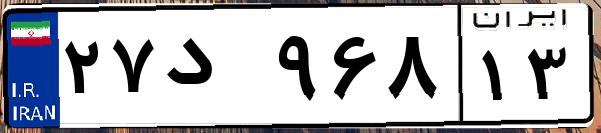1: (475, 38, 525, 113)
2: (57, 26, 110, 100)
3: (525, 38, 570, 115)
6: (330, 28, 385, 110)
7: (110, 28, 158, 98)
8: (385, 28, 445, 110)
9: (270, 28, 330, 110)
د: (158, 20, 270, 120)
